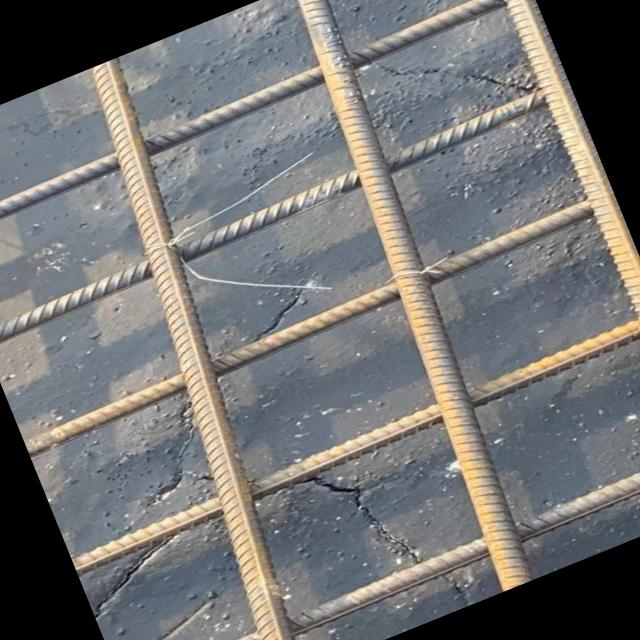ribbed bar: (32, 56, 358, 640), (263, 0, 559, 590), (18, 196, 599, 456), (66, 317, 640, 576), (0, 89, 549, 348), (0, 0, 511, 242), (120, 447, 640, 640), (468, 0, 640, 507)
